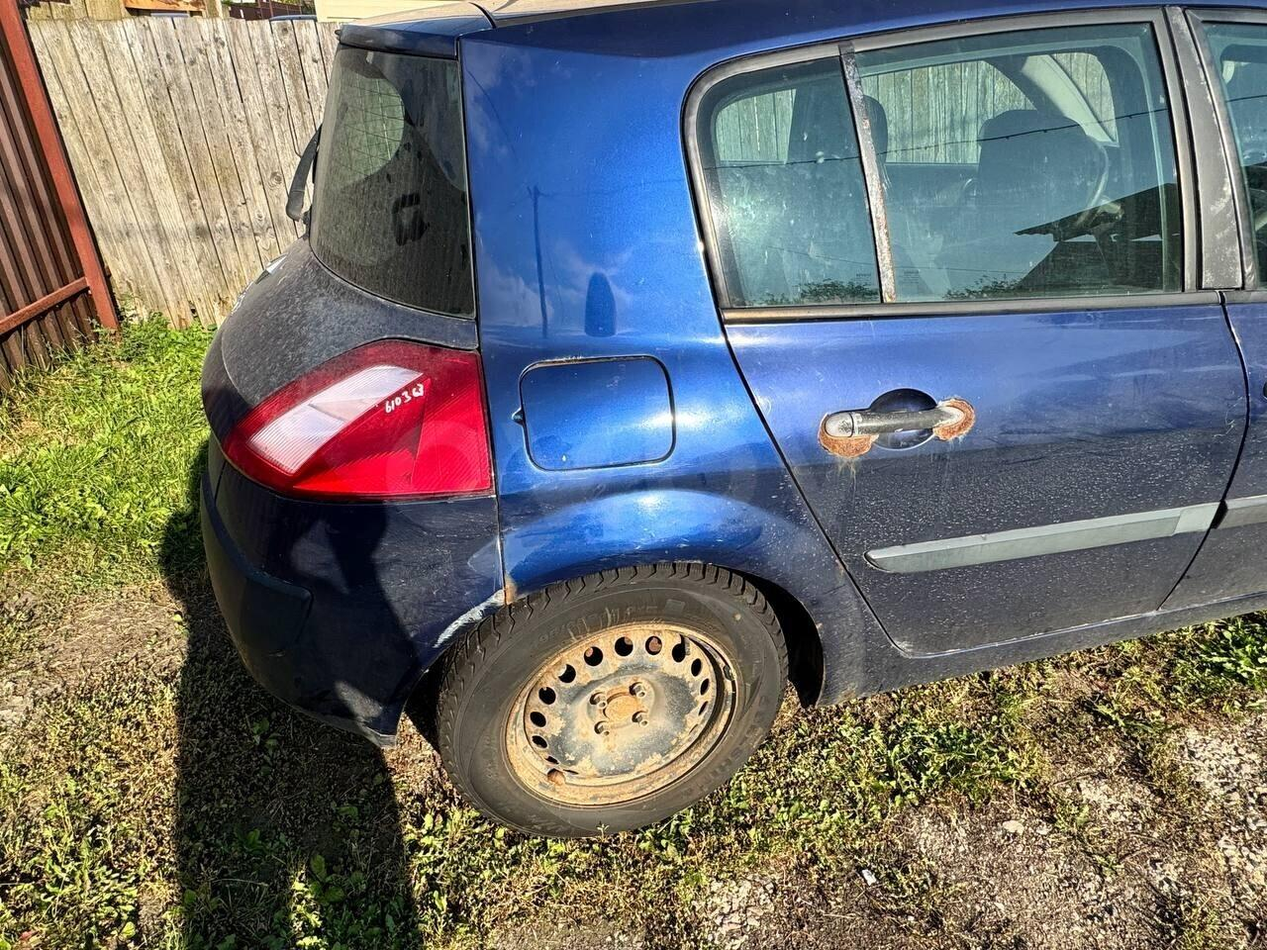Megane_2002-2006: (161, 0, 1267, 839)
